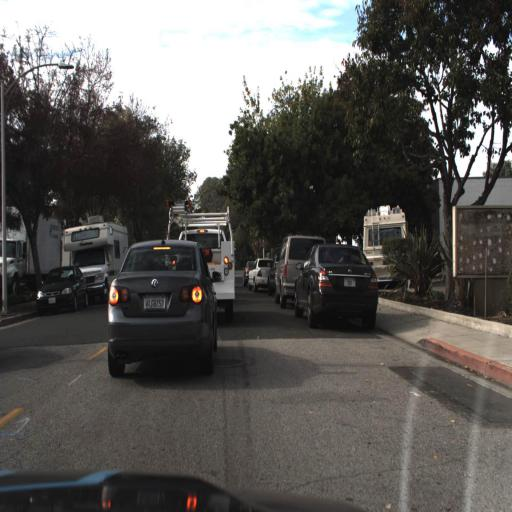car: (107, 236, 219, 380), (166, 199, 243, 313), (292, 242, 379, 330), (61, 222, 129, 297), (360, 196, 410, 291), (272, 234, 327, 312), (33, 260, 88, 316), (246, 256, 275, 294)
truck: (172, 221, 238, 319), (1, 199, 68, 293), (59, 216, 127, 304), (363, 208, 415, 302)
